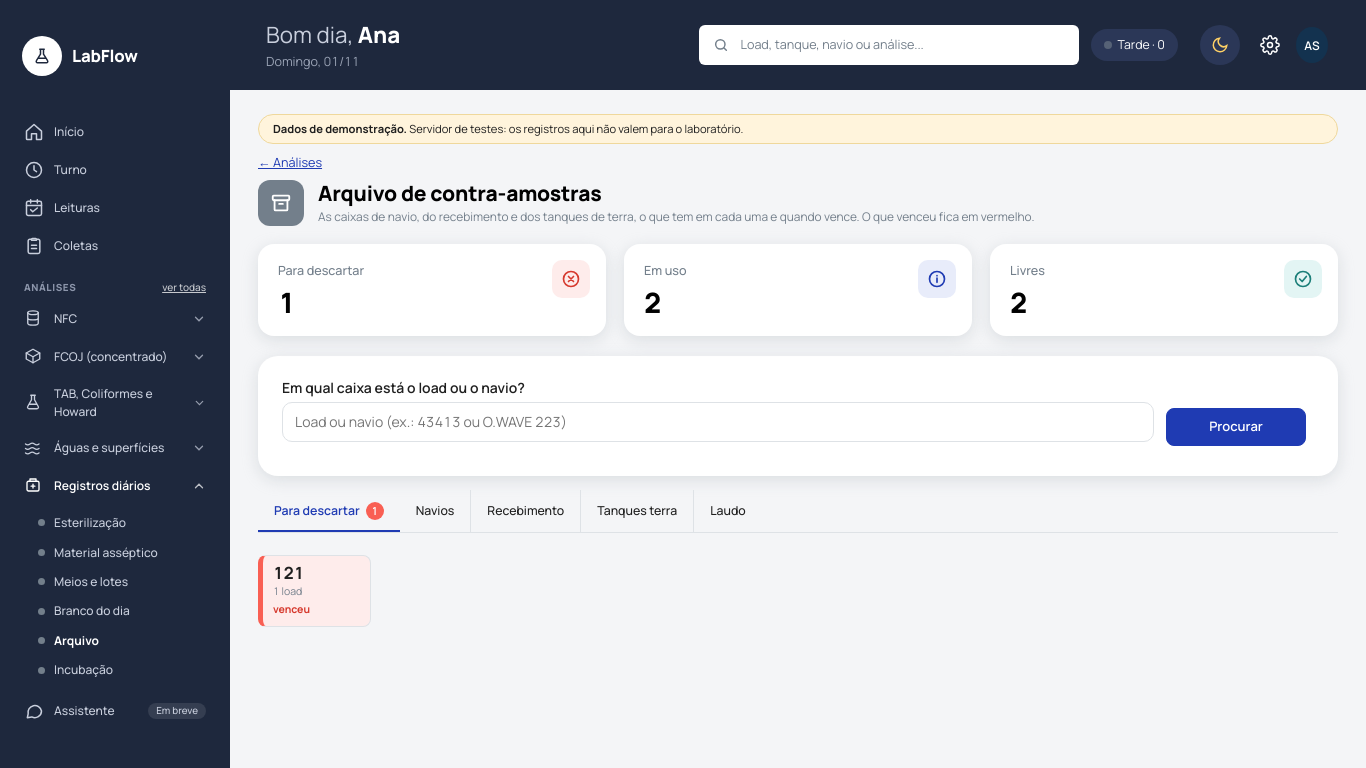
Test case: Arquivo de contra-amostras (PB21) › abre em Para descartar com a caixa vencida e mostra o conteúdo em vermelho
Click the button with aria-label "Caixa 121, Recebimento, Vencida" at (314, 591), box [258,555,371,627]
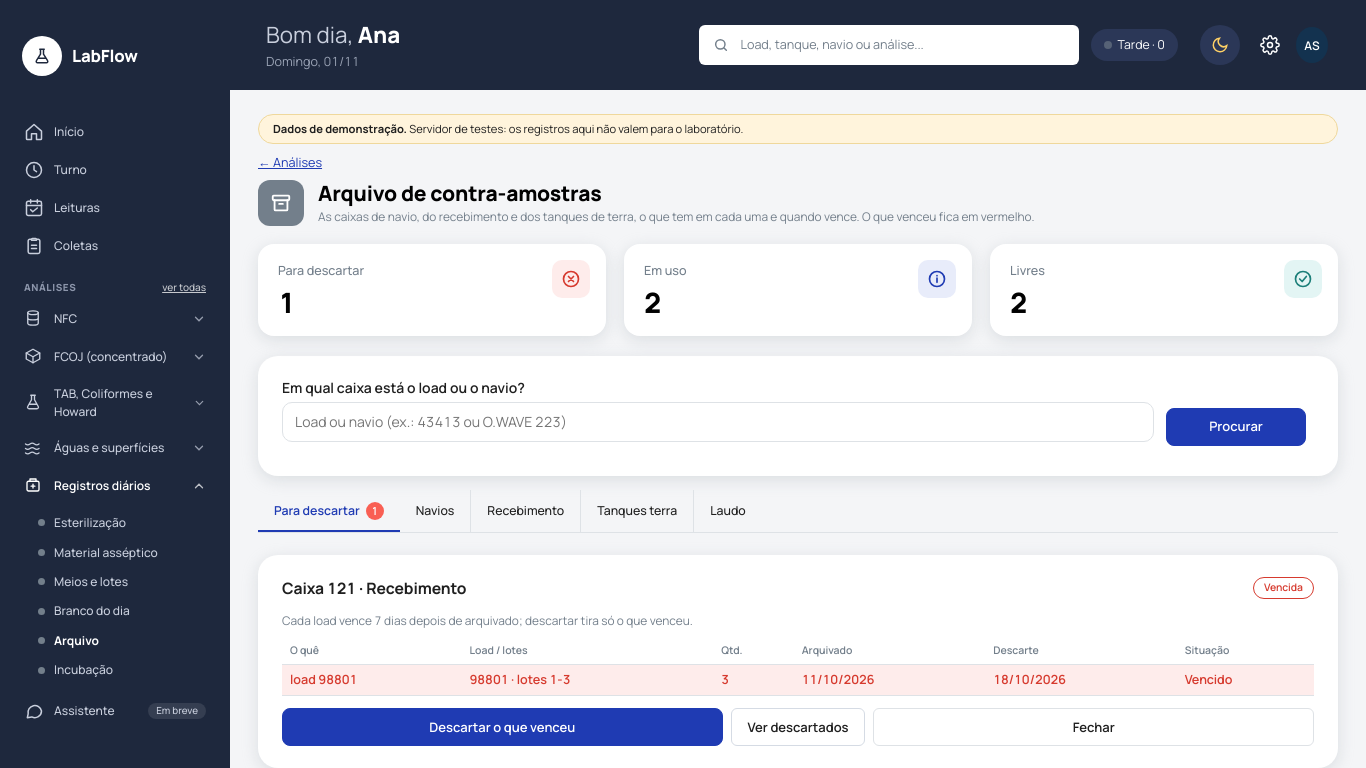
Check: the text "load 98801" is shown, box [282,664,462,696]
Click the button "Descartar o que venceu" at (502, 727), box [282,708,723,746]
(page scrolled)
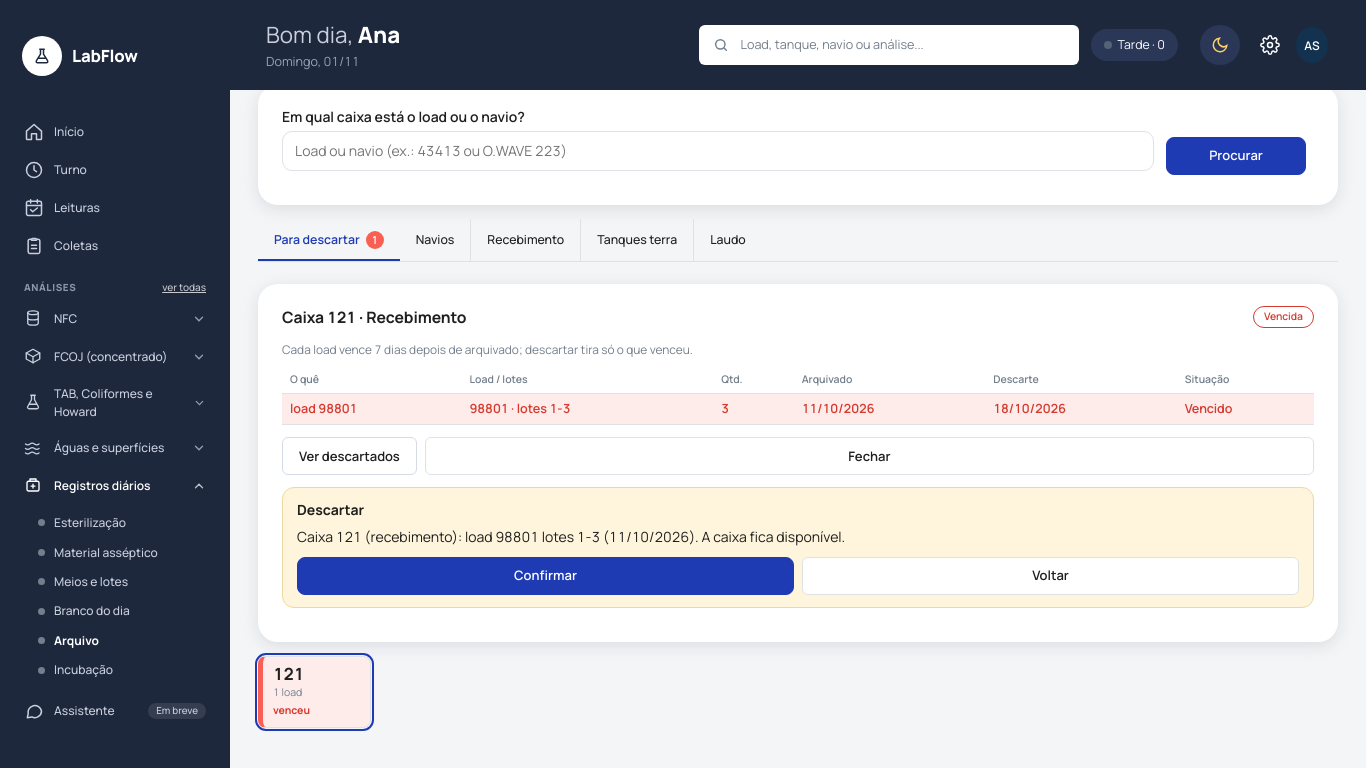
Check: the text "A caixa fica disponível" is shown, box [297,527,845,546]
